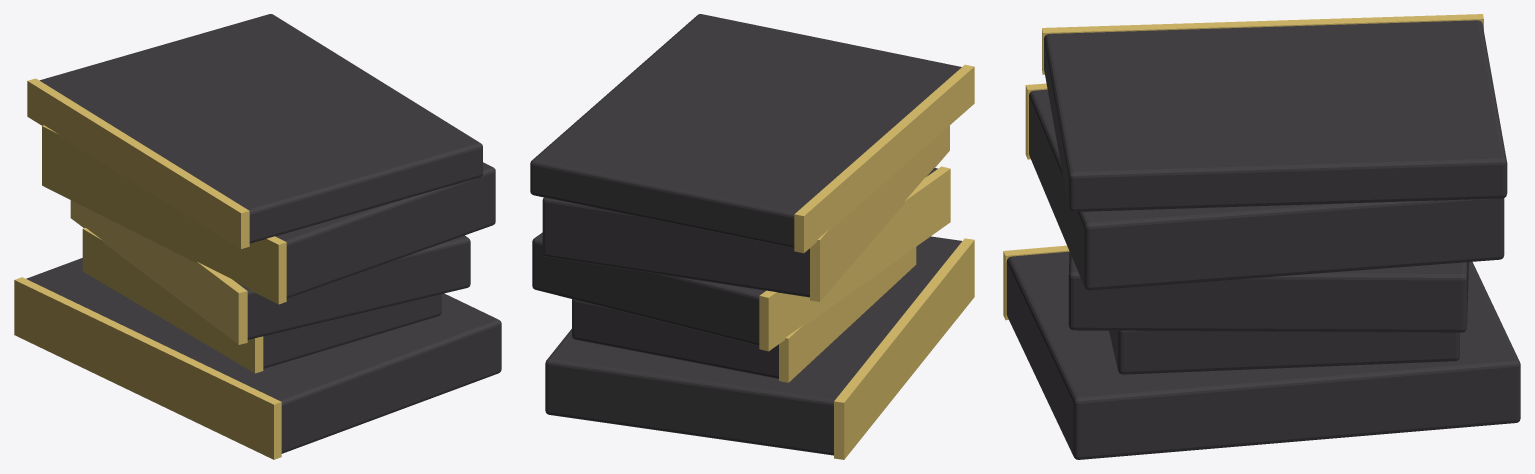
The model's file is book_stack_ledger_stack.glb.
The picture shows the model from 3 angles, left to right: view 1: azimuth 30°, elevation 25°; view 2: azimuth 150°, elevation 25°; view 3: azimuth 270°, elevation 25°; orthographic projection. The views are drawn at different scales.
Visible parts, largest first — view 1: GD_book_stack_ledger_stack__m0, GD_book_stack_ledger_stack__m2; view 2: GD_book_stack_ledger_stack__m0, GD_book_stack_ledger_stack__m2; view 3: GD_book_stack_ledger_stack__m0, GD_book_stack_ledger_stack__m2.
Boxes of the visible parts, x1=… form: GD_book_stack_ledger_stack__m0: x1=26, y1=14, x2=501, y2=453; GD_book_stack_ledger_stack__m2: x1=14, y1=78, x2=286, y2=459; GD_book_stack_ledger_stack__m0: x1=530, y1=14, x2=961, y2=455; GD_book_stack_ledger_stack__m2: x1=759, y1=64, x2=974, y2=459; GD_book_stack_ledger_stack__m0: x1=1006, y1=20, x2=1520, y2=459; GD_book_stack_ledger_stack__m2: x1=1003, y1=14, x2=1483, y2=320.
Bounding box in the file's own units: 0.3644 × 0.2548 × 0.4298.
